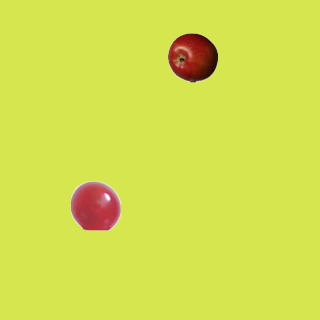Apple Braeburn: (167, 32, 217, 82)
Redcurrant: (70, 180, 120, 230)
